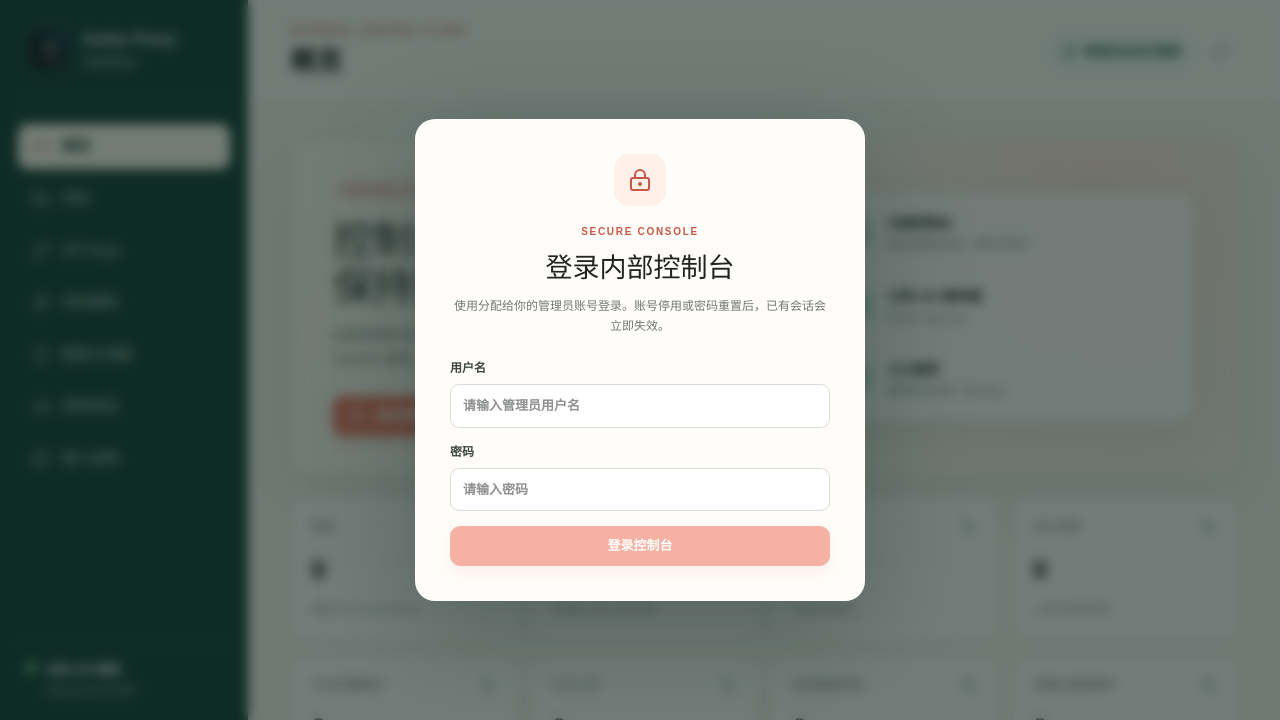
Test case: 内部控制台 › 登录锁定时展示 Retry-After
The width and height of the screenshot is (1280, 720).
Expected: the heading "登录内部控制台" is shown, [546,253,734,283]
In the field labelled "用户名": coordinates (640, 406) [450,384,830,428], type "owner"
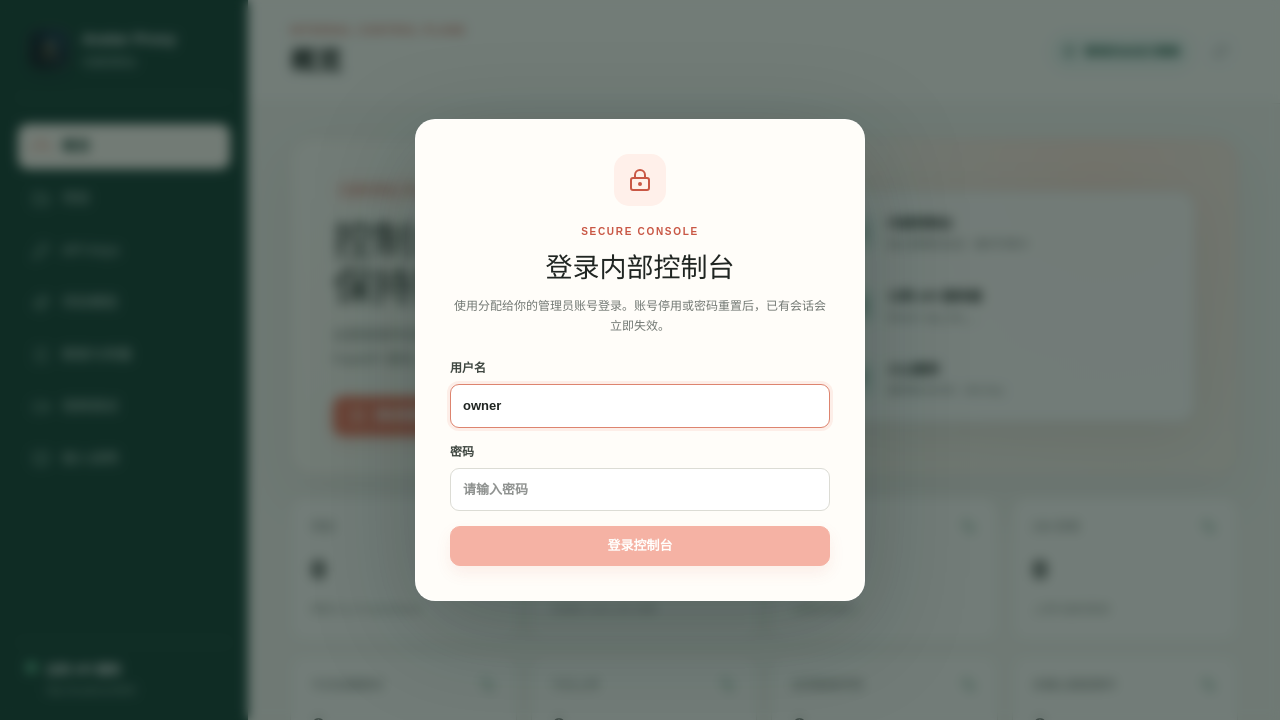
In the password field labelled "密码": coordinates (640, 489) [450,468,830,511], type "wrong-password"
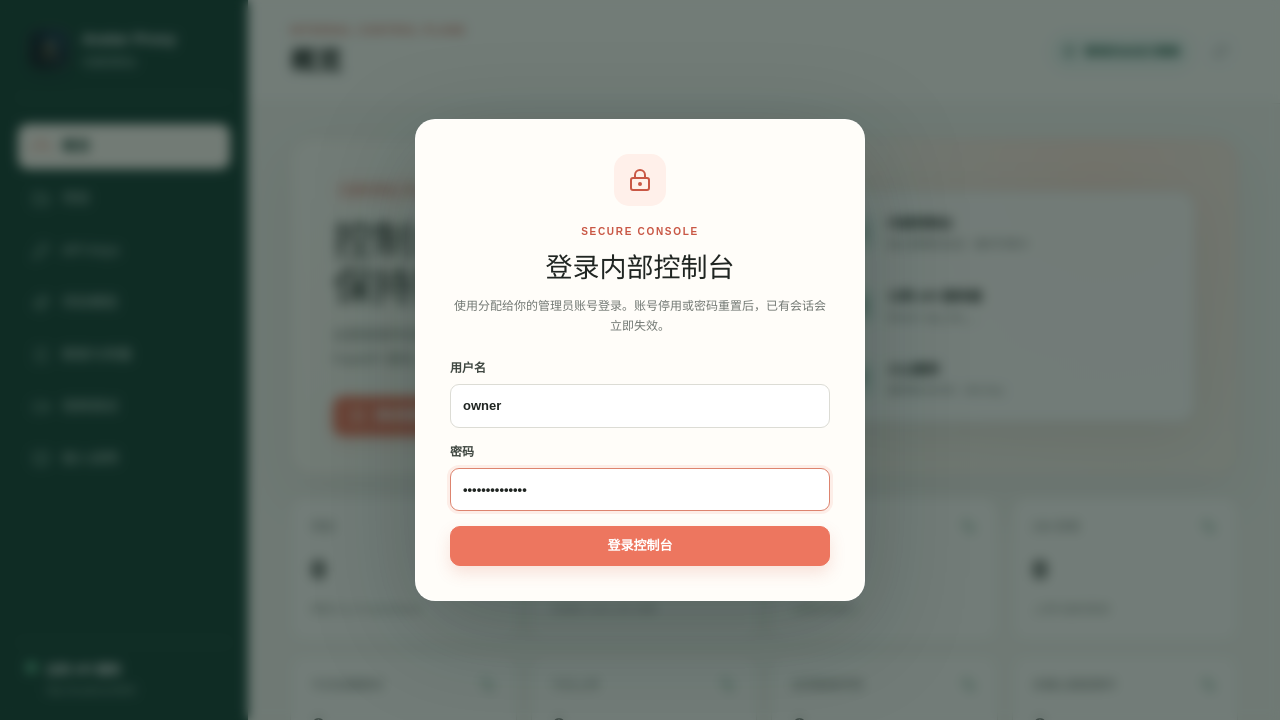
Click the button "登录控制台": coordinates (640, 546) [450,526,830,566]
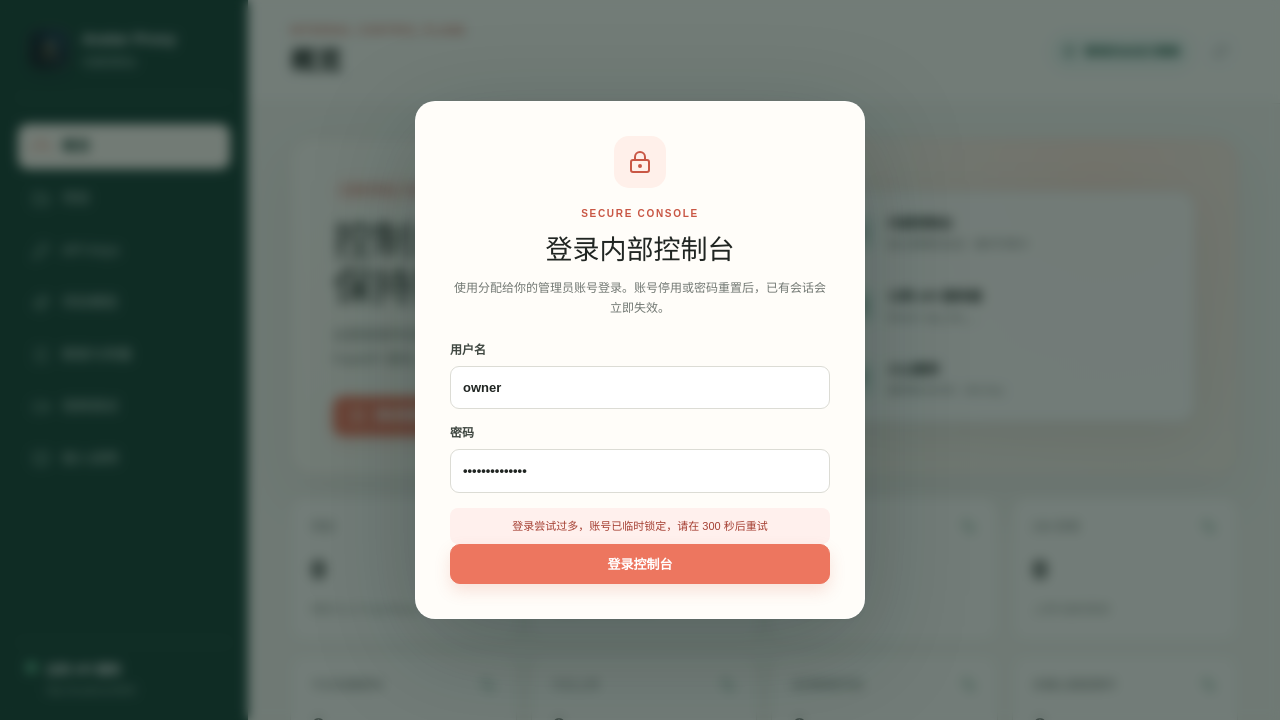
Expected: the message shows "300 秒后重试", [512,520,768,532]
